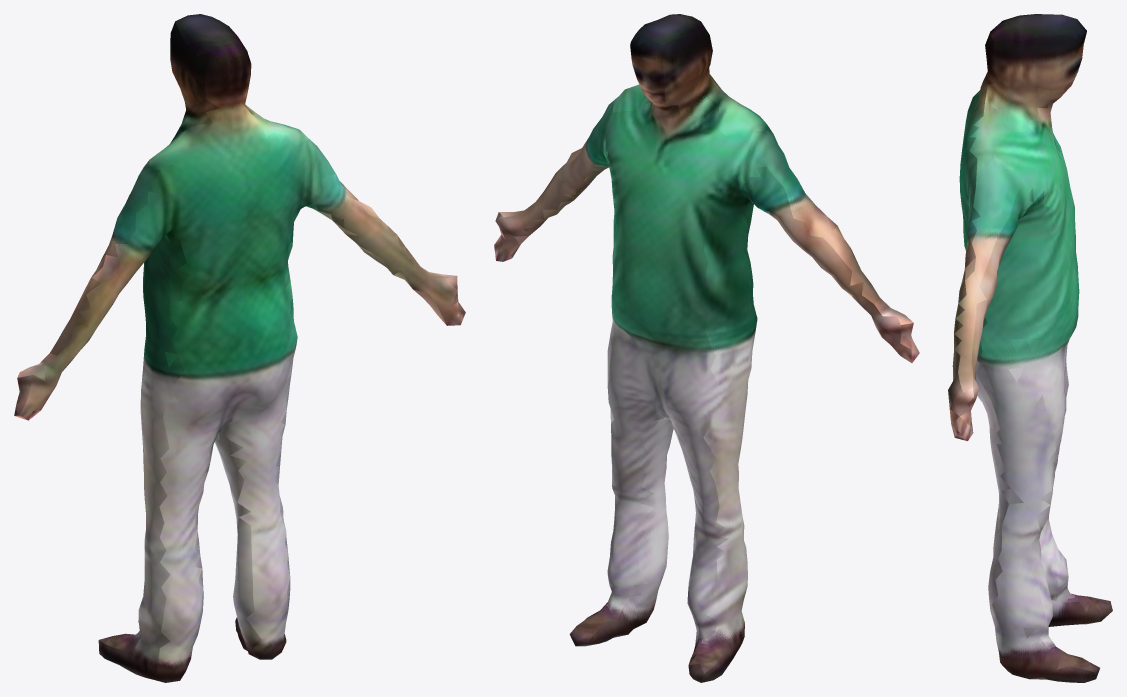
The picture shows the model from 3 angles, left to right: view 1: azimuth 30°, elevation 25°; view 2: azimuth 150°, elevation 25°; view 3: azimuth 270°, elevation 25°; orthographic projection. The views are drawn at different scales.
Visible parts, largest first — view 1: world; view 2: world; view 3: world.
Boxes of the visible parts, bbox=[...] form: world: bbox=[14, 14, 465, 682]; world: bbox=[494, 14, 919, 682]; world: bbox=[948, 14, 1112, 682].
Bounding box in the file's own units: 0.725 × 1 × 0.237.
Materials: 1 (1 with a texture image).
